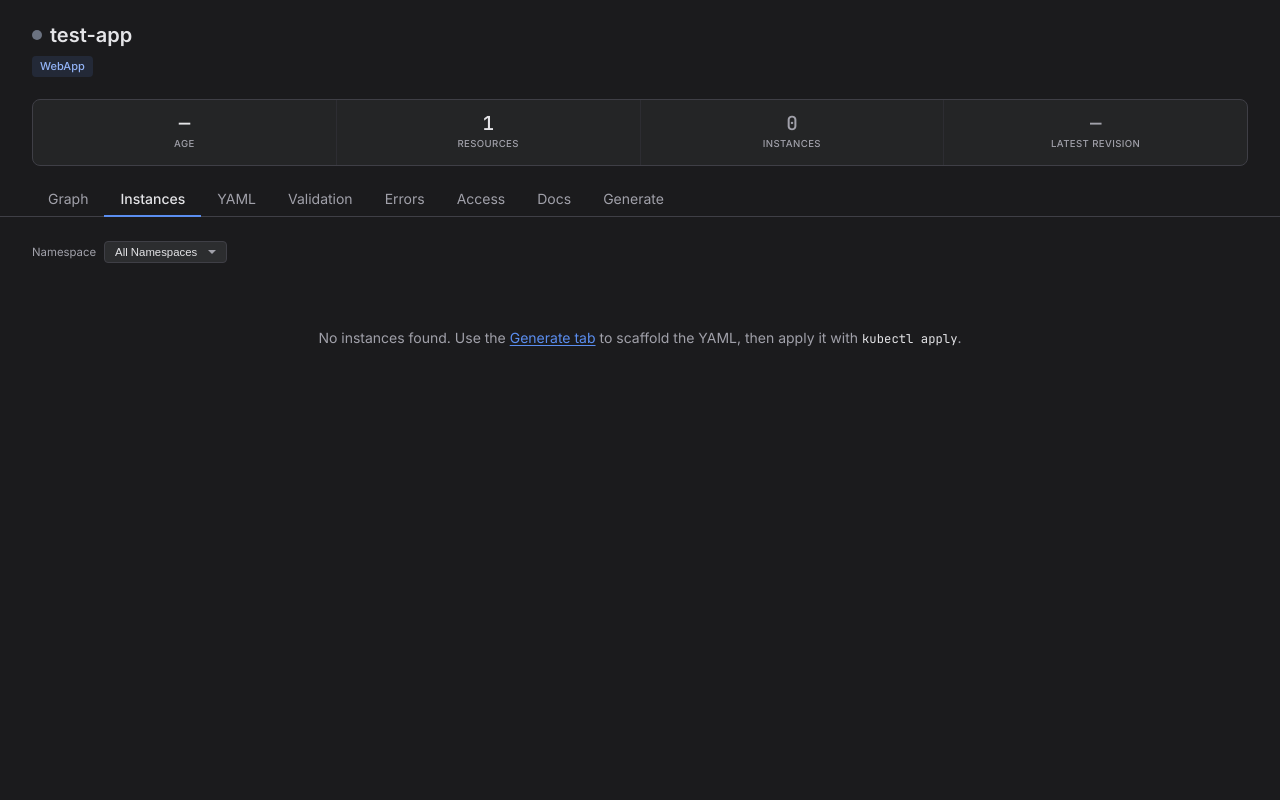
Test: RGDDetail setTab namespace preservation (issue #249) › T249: switching to Graph tab preserves the namespace search param
The image size is (1280, 800).
// Click the Graph tab
Click the tab with test id "tab-graph" at [68, 200], box x1=32 y1=182 x2=104 y2=217
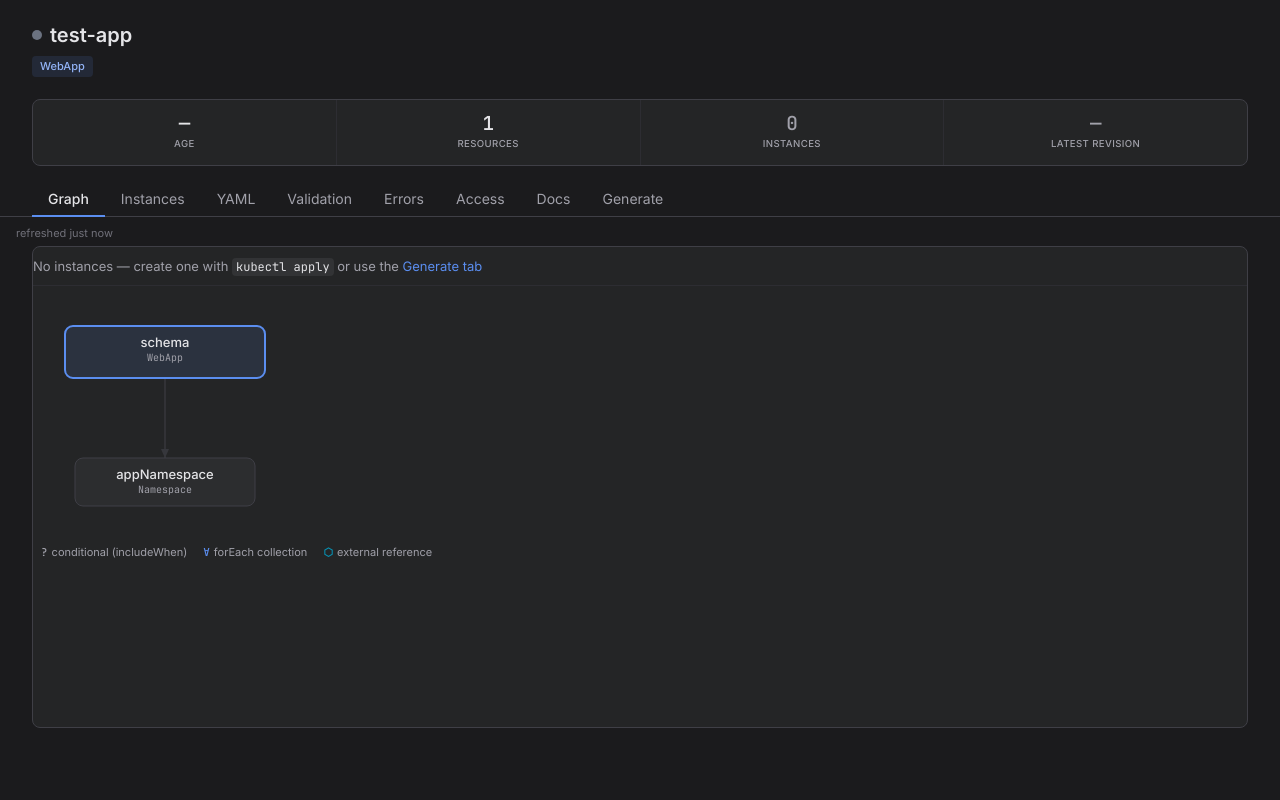
expect the tab with test id "tab-graph" is selected: met, box x1=32 y1=182 x2=105 y2=217
Click the tab with test id "tab-instances" at [153, 200], box x1=105 y1=182 x2=201 y2=217
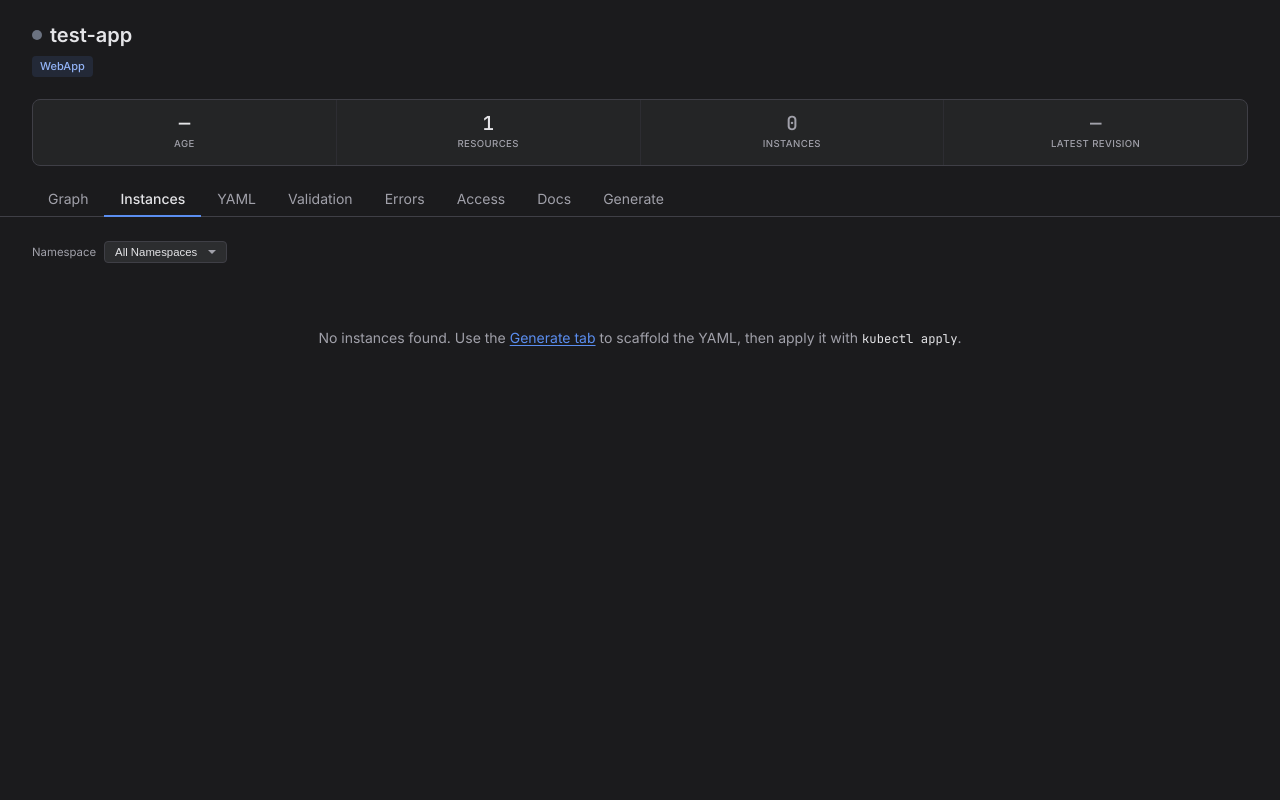
expect the dropdown with test id "namespace-filter" showing "Namespace" is shown: met, box x1=104 y1=241 x2=227 y2=263
